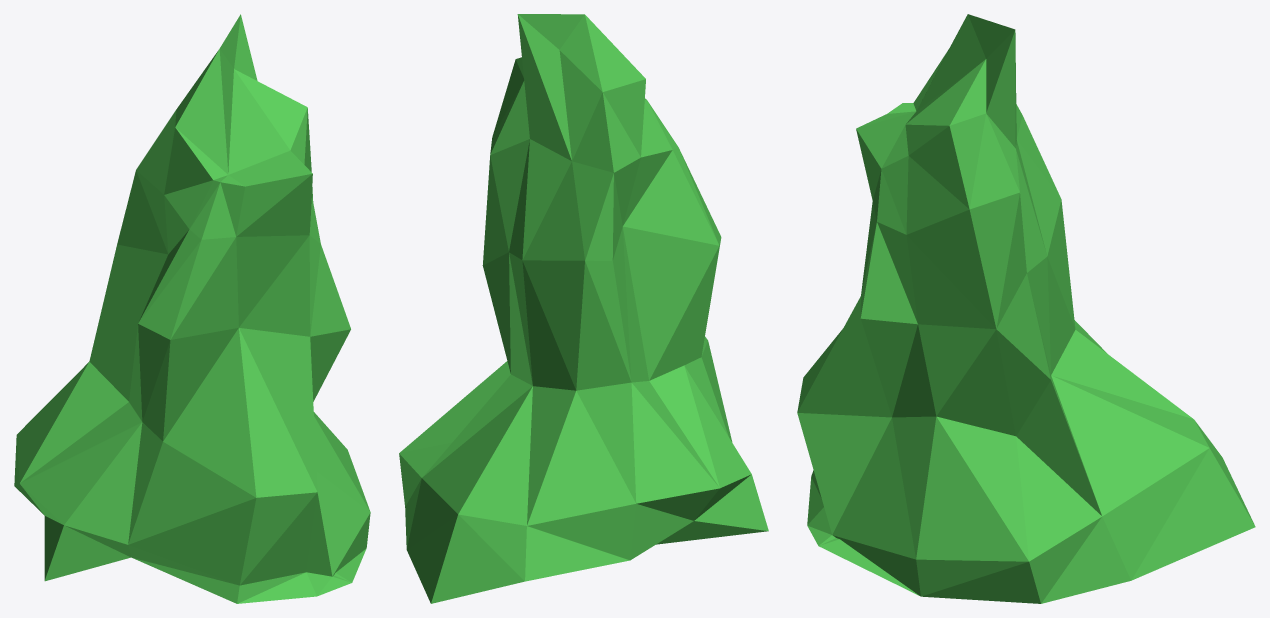
Rendered from Terrain_Pillar.fbx.
3 views of the same model, side by side, from view 1: azimuth 30°, elevation 25°; view 2: azimuth 150°, elevation 25°; view 3: azimuth 270°, elevation 25° (orthographic). The views are drawn at different scales.
Parts seen in each view (by area): view 1: Pillar; view 2: Pillar; view 3: Pillar.
Boxes of the visible parts, box(x1,y1,x2,y2) form: Pillar: box(14, 14, 370, 603); Pillar: box(399, 14, 768, 603); Pillar: box(797, 14, 1255, 603).
Bounding box in the file's own units: 12.74 × 18.64 × 14.68.
